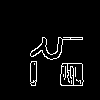R: (25, 25, 72, 64)
